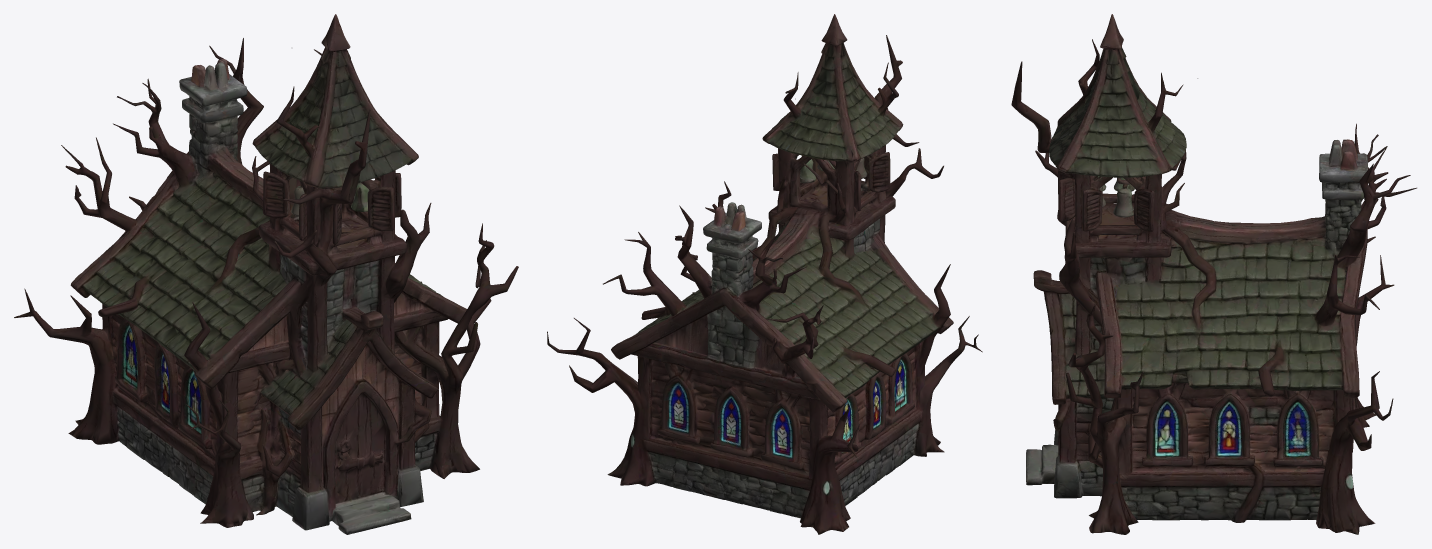
Rendered from rootbound_manor.glb.
3 renders of one model, left to right at view 1: azimuth 30°, elevation 25°; view 2: azimuth 150°, elevation 25°; view 3: azimuth 270°, elevation 25°, orthographic. The views are drawn at different scales.
Size of the model in its own units: 1.51 by 1.9 by 1.53.
Materials: 1 (1 with a texture image).
